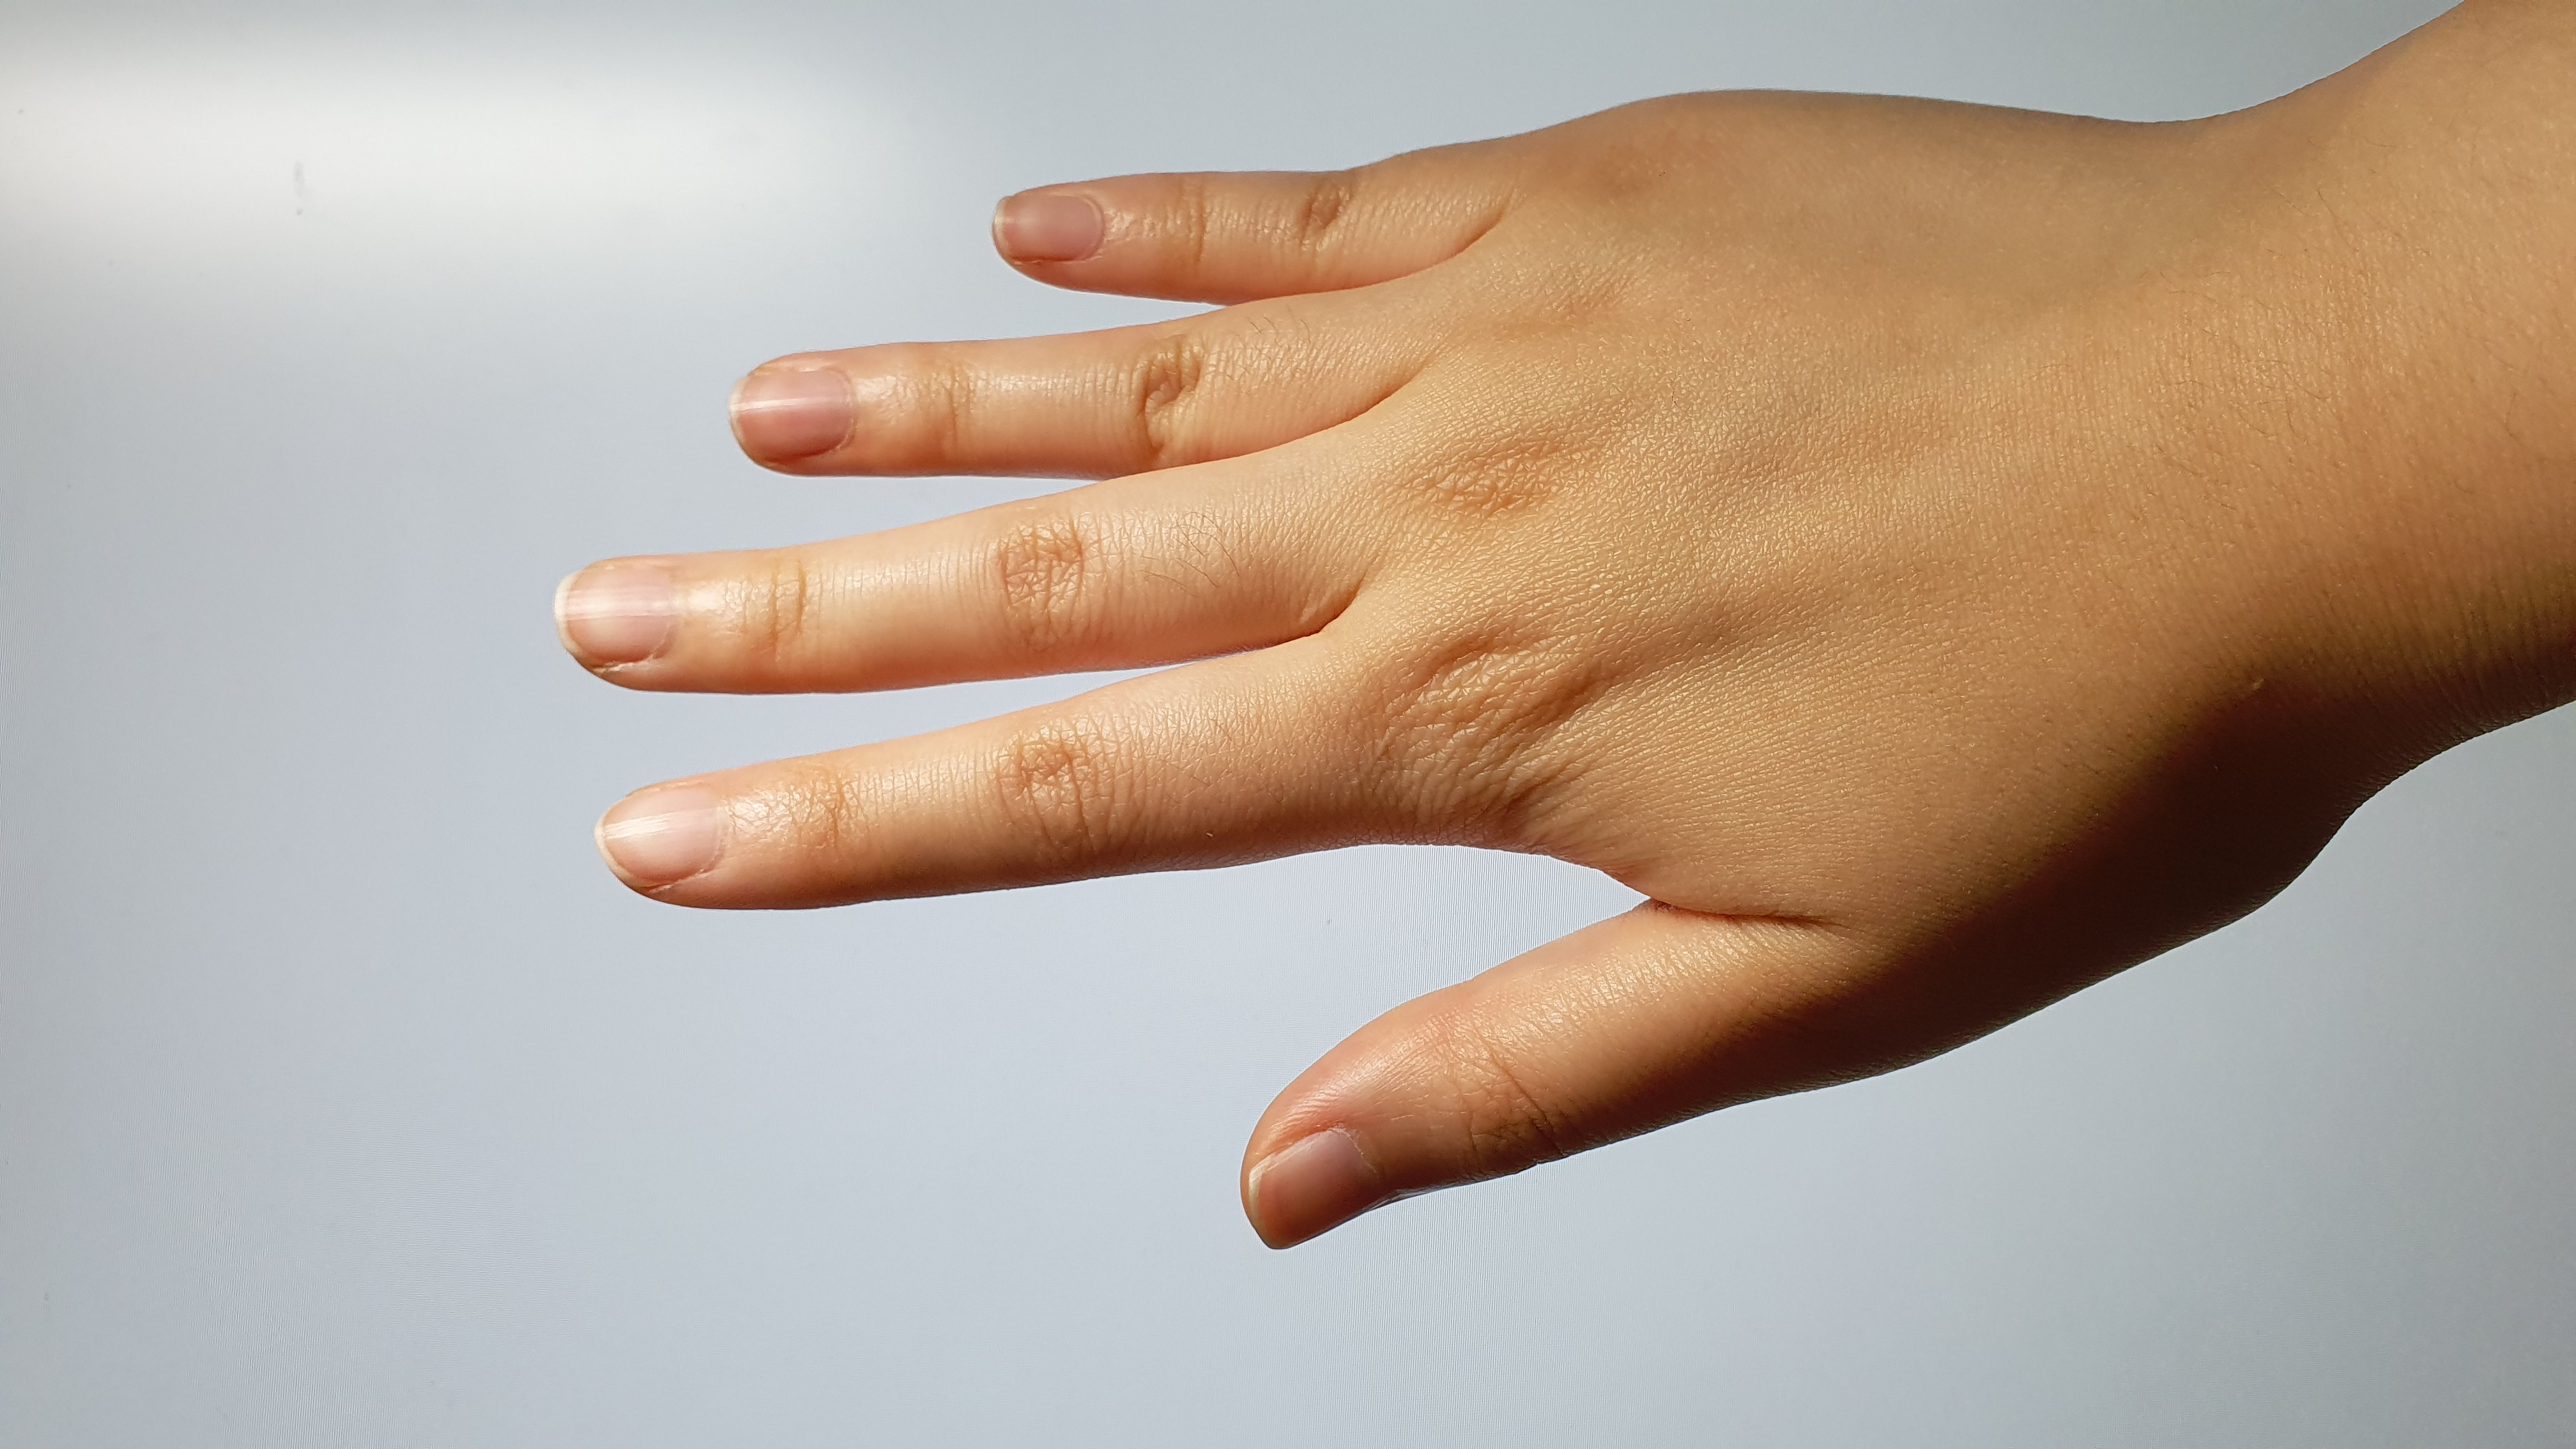backhand: (1369, 92, 2360, 982)
hand: (554, 78, 2335, 1247)
index finger: (593, 665, 1405, 936)
middle finger: (550, 488, 1357, 683)
pinky: (982, 150, 1476, 311)
ring finger: (724, 320, 1375, 485)
thumb: (1244, 899, 1849, 1265)
